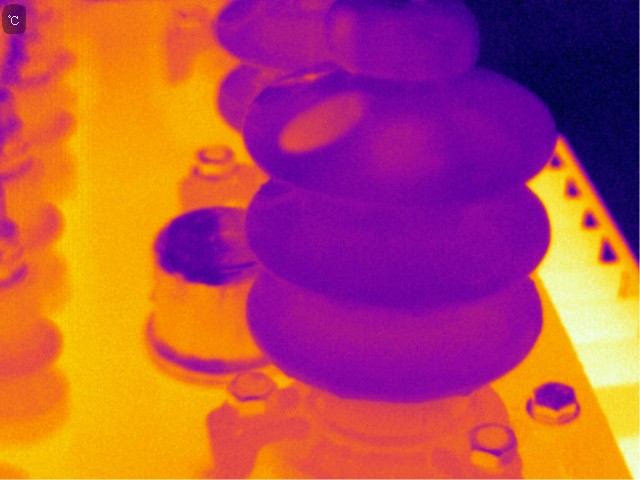Oil: (275, 86, 372, 160), (325, 14, 371, 70), (262, 70, 346, 87)
